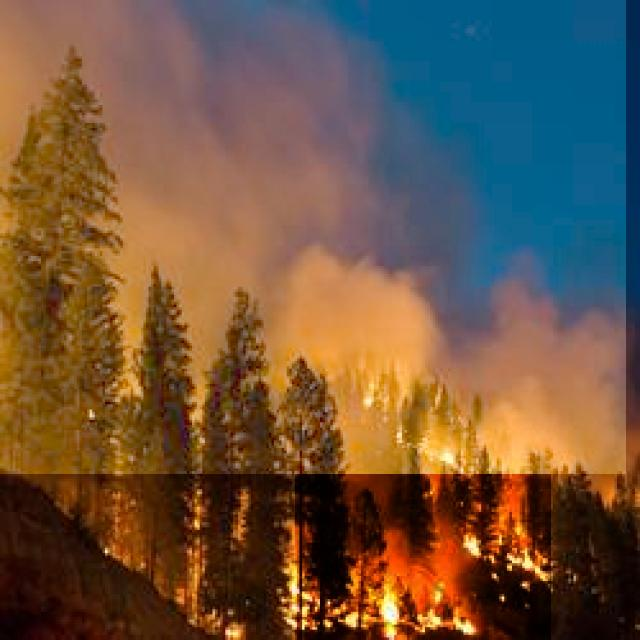Fire: (295, 393, 551, 640)
Smoke: (0, 0, 626, 474)
